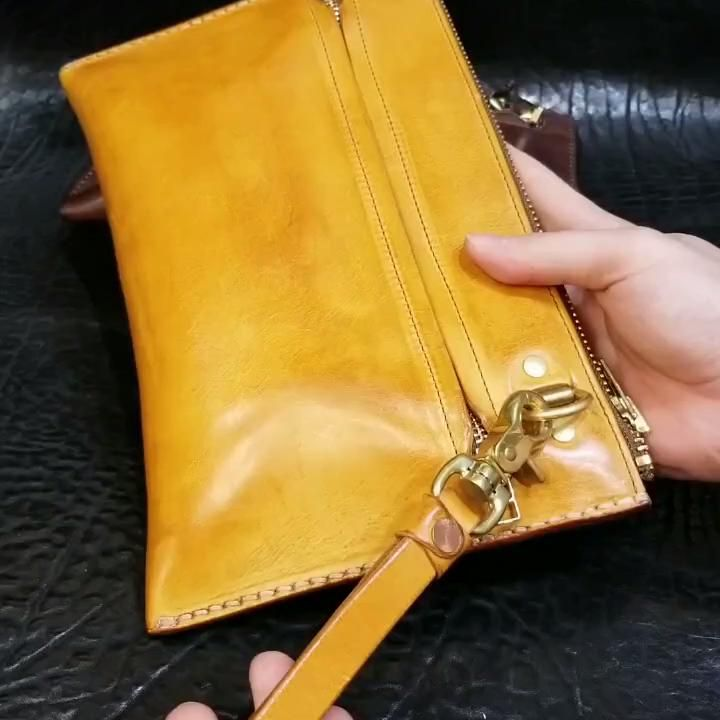cuero: (57, 1, 653, 720)
